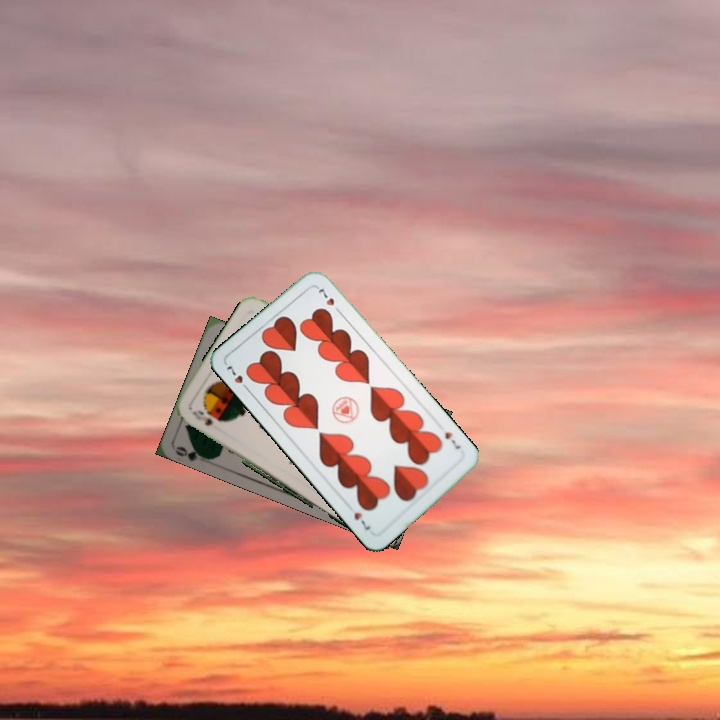GO: (172, 442, 213, 464)
H7: (222, 360, 252, 394), (441, 428, 463, 452)
SO: (189, 406, 215, 429)
